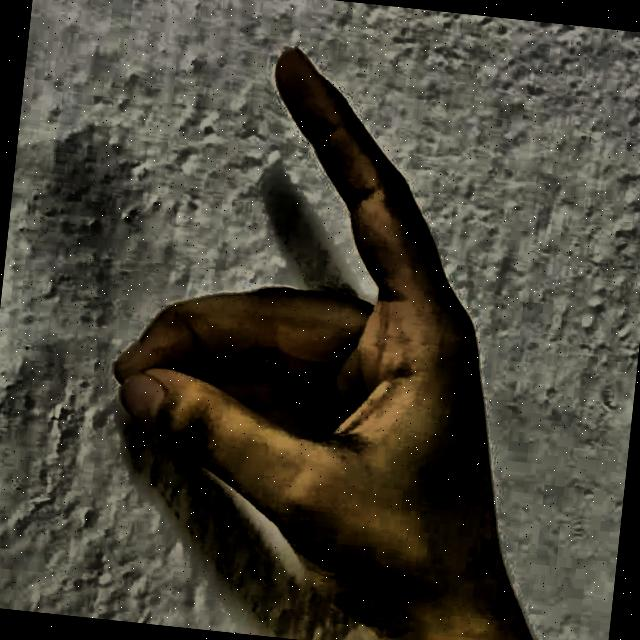Dha: (75, 16, 602, 640)
